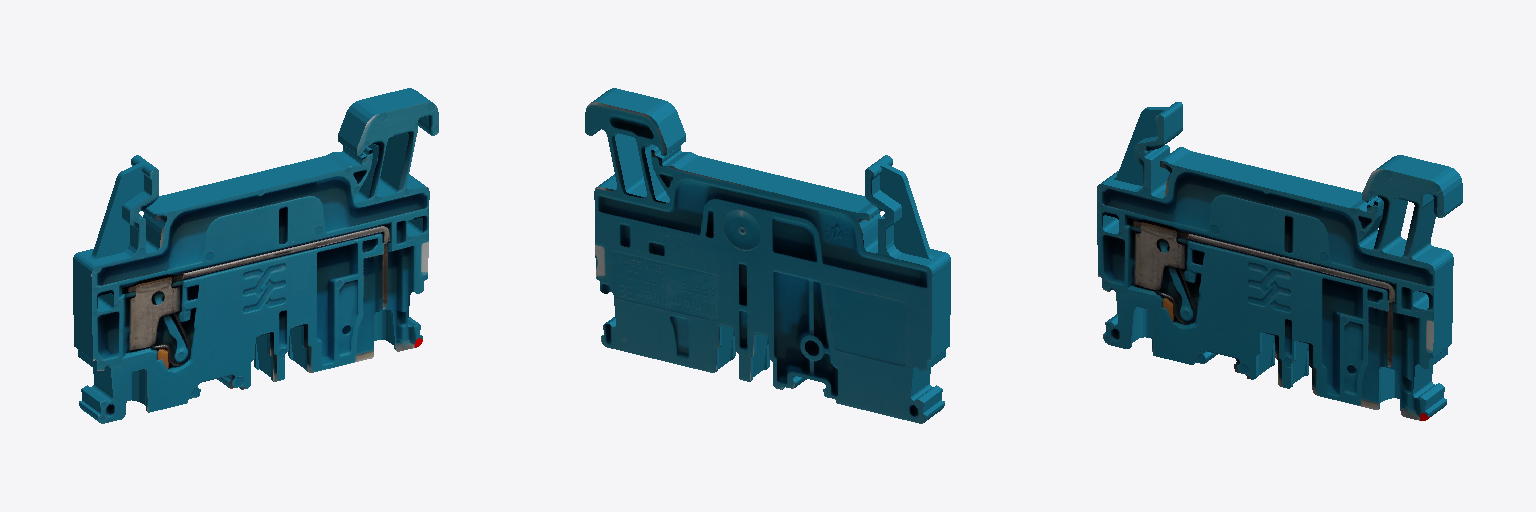
3 views of the same model, side by side, from view 1: azimuth 30°, elevation 25°; view 2: azimuth 150°, elevation 25°; view 3: azimuth 330°, elevation 25° (orthographic).
Visible parts, largest first — view 1: [number redacted]_[number redacted].001; view 2: [number redacted]_[number redacted].001; view 3: [number redacted]_[number redacted].001.
Boxes of the visible parts, box(x1,y1,x2,y2) form: [number redacted]_[number redacted].001: box(73, 88, 438, 423); [number redacted]_[number redacted].001: box(585, 88, 950, 423); [number redacted]_[number redacted].001: box(1097, 102, 1462, 420).
Size of the model in its own units: 0.0542 by 0.0362 by 0.0051.
1 materials, 1 textured.